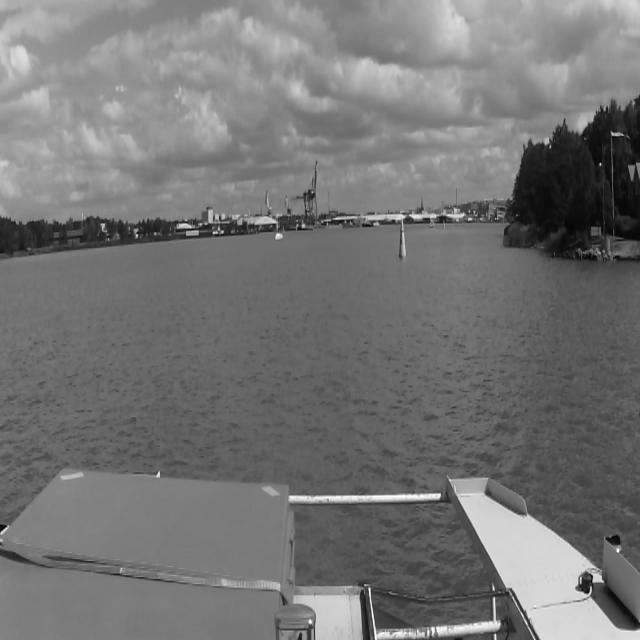buoy: (398, 221, 407, 257), (442, 212, 446, 228)
ship: (274, 208, 284, 241)
